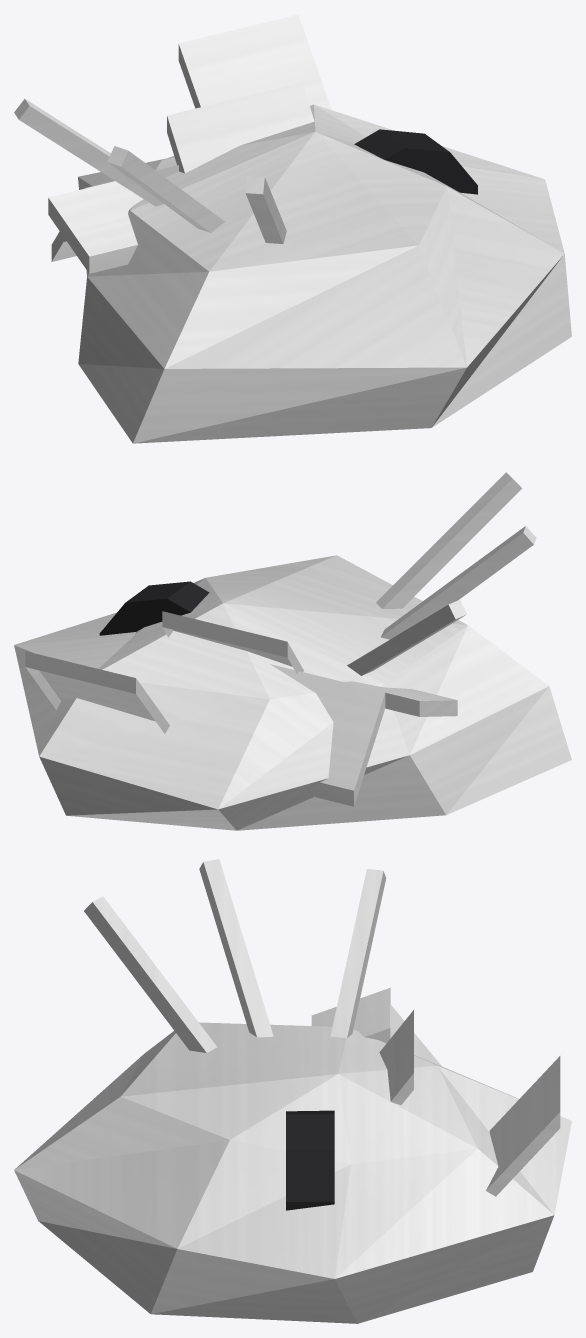
Rendered from junk_3.obj.
3 renders of one model, top to bottom at view 1: azimuth 30°, elevation 25°; view 2: azimuth 150°, elevation 25°; view 3: azimuth 270°, elevation 25°, orthographic. The views are drawn at different scales.
Parts seen in each view (by area): view 1: junk_3; view 2: junk_3; view 3: junk_3.
Part boxes in pixels (x1,y1,x2,y2): junk_3: (14,14,571,443); junk_3: (14,472,571,830); junk_3: (14,859,571,1323).
Size of the model in its own units: 0.9259 by 0.4657 by 0.9153.
